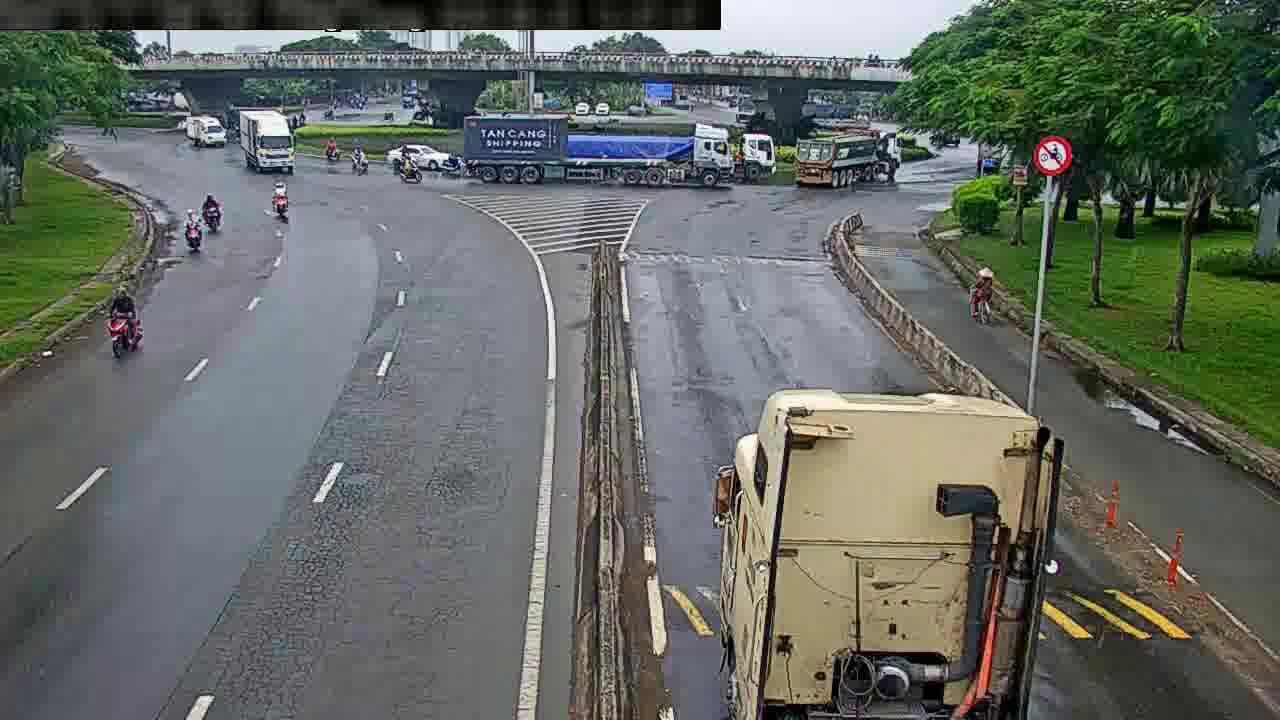8: (712, 394, 1066, 707), (456, 107, 731, 190), (562, 131, 725, 184), (791, 131, 907, 190), (236, 105, 306, 175)
container: (386, 144, 452, 173)
motorbike: (111, 283, 144, 357), (966, 260, 999, 320), (270, 182, 290, 220), (184, 208, 202, 250), (206, 190, 222, 233)
